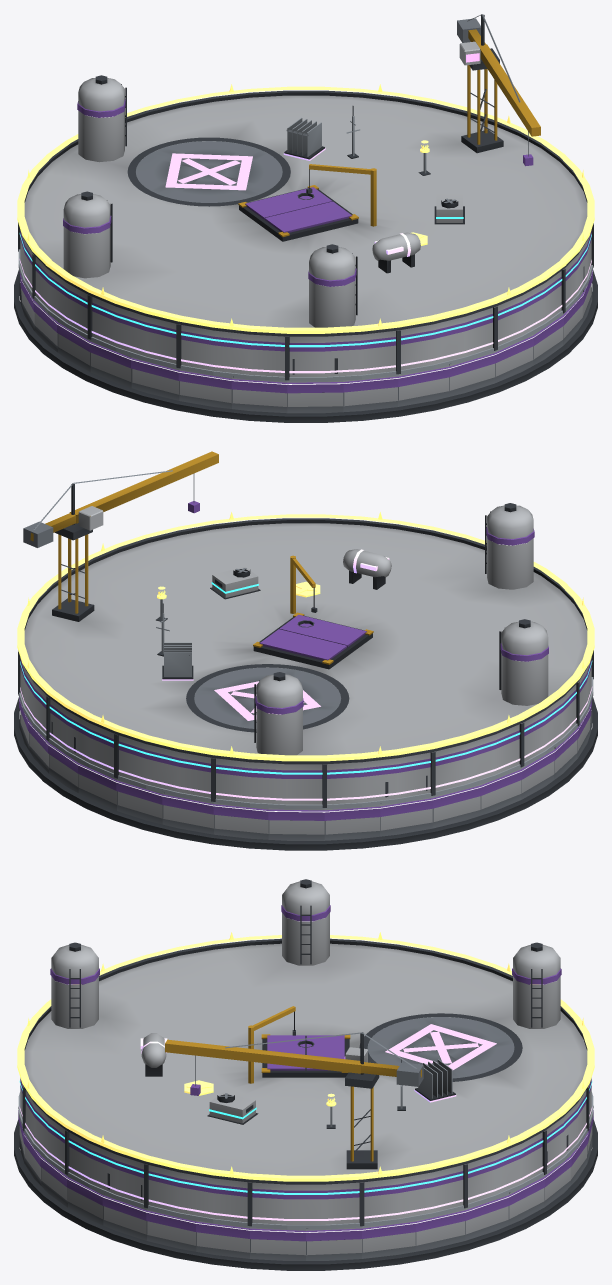
File: storehouse_l_far.glb
3 views of the same model, one above another, from view 1: azimuth 30°, elevation 25°; view 2: azimuth 150°, elevation 25°; view 3: azimuth 270°, elevation 25° (orthographic).
Parts seen in each view (by area): view 1: Roof, Base, L5, L4, L2, L3; view 2: Roof, Base, L5, L4, L2, L3; view 3: Roof, Base, L5, L4, L2, L3.
Boxes of the visible parts, bbox=[...] form: Roof: bbox=[18, 14, 593, 380]; Base: bbox=[14, 270, 597, 422]; L5: bbox=[17, 84, 594, 333]; L4: bbox=[19, 117, 591, 373]; L2: bbox=[18, 106, 592, 381]; L3: bbox=[19, 192, 591, 347]; Roof: bbox=[18, 451, 593, 807]; Base: bbox=[14, 697, 597, 850]; L5: bbox=[17, 512, 594, 761]; L4: bbox=[20, 549, 592, 800]; L2: bbox=[18, 603, 593, 809]; L3: bbox=[20, 567, 592, 774]; Roof: bbox=[20, 879, 591, 1226]; Base: bbox=[14, 1106, 597, 1270]; L5: bbox=[17, 932, 594, 1181]; L4: bbox=[19, 1033, 592, 1220]; L2: bbox=[18, 1059, 593, 1229]; L3: bbox=[19, 1040, 592, 1194].
Bounding box in the file's own units: 20.76 × 8.43 × 20.76.
